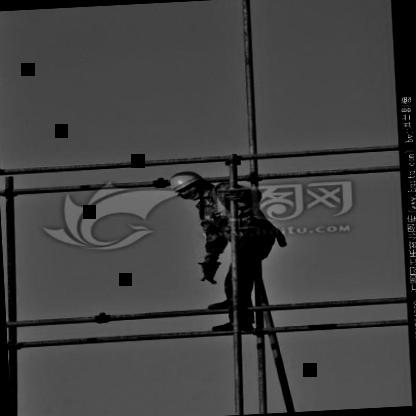helmet: (164, 167, 210, 202)
